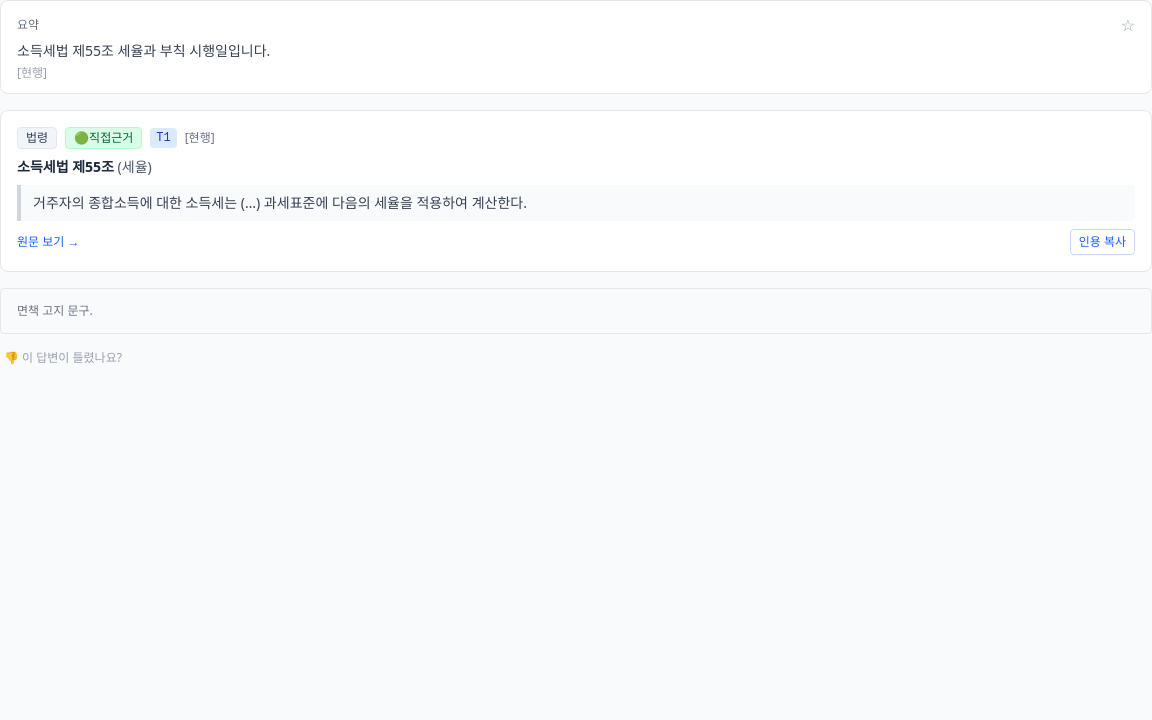
Test: AnswerCard — 조용한 틀림 신고 👎 (TAX-030-B, FR-24) › 신고 제출 시 /api/feedback에 질문·사유·sourceTypes를 전송하고 완료 메시지를 표시한다
Click the button with test id "feedback-open-btn" at (63, 358), box [4,350,122,366]
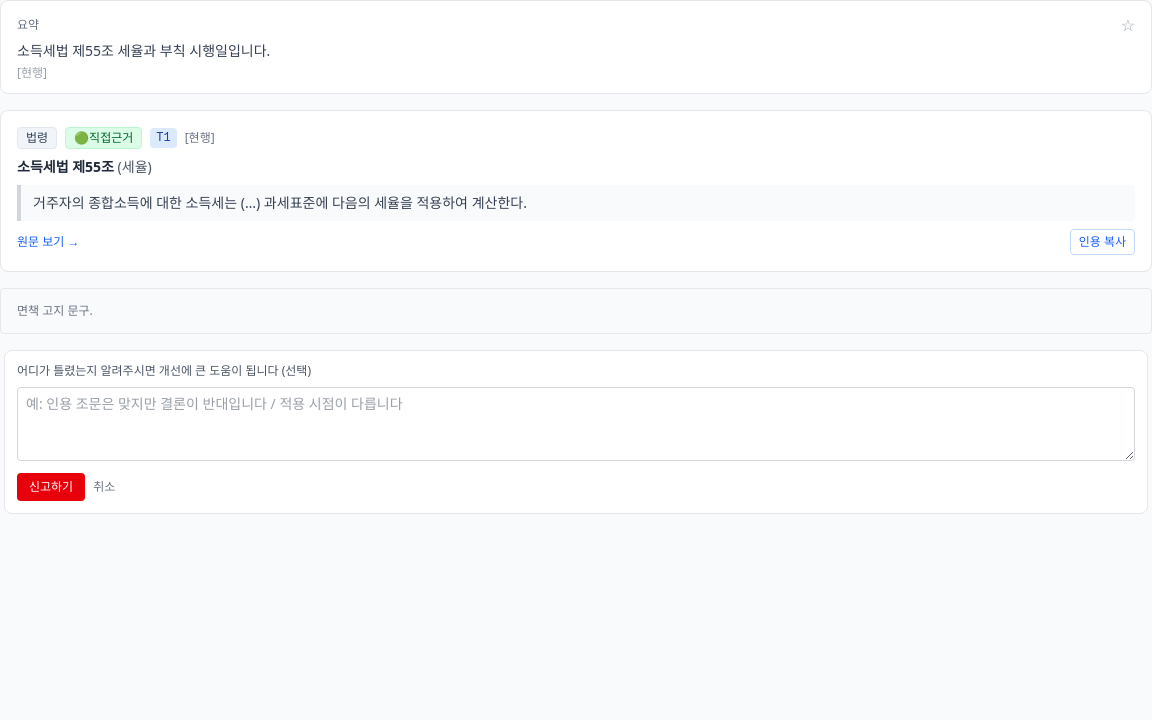
Type "결론이 반대입니다" into the text box with test id "feedback-reason-input" at (576, 424), box [17,386,1135,460]
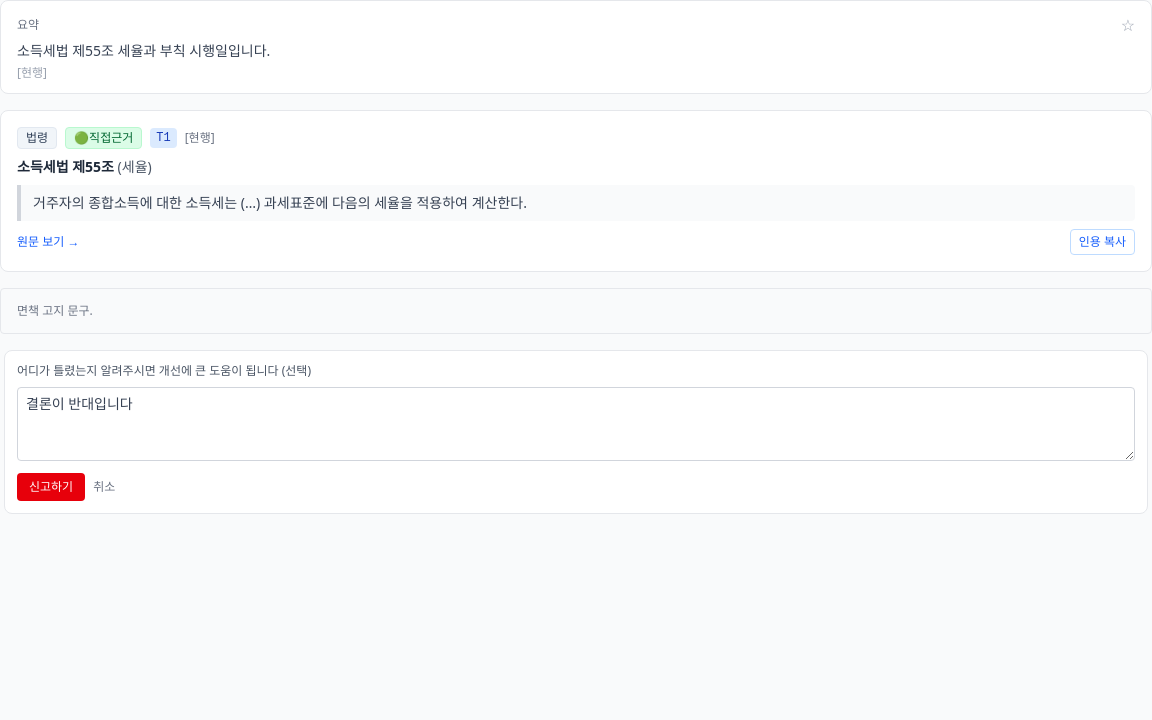
Click the button with test id "feedback-submit-btn" at (51, 486), box [17,472,85,500]
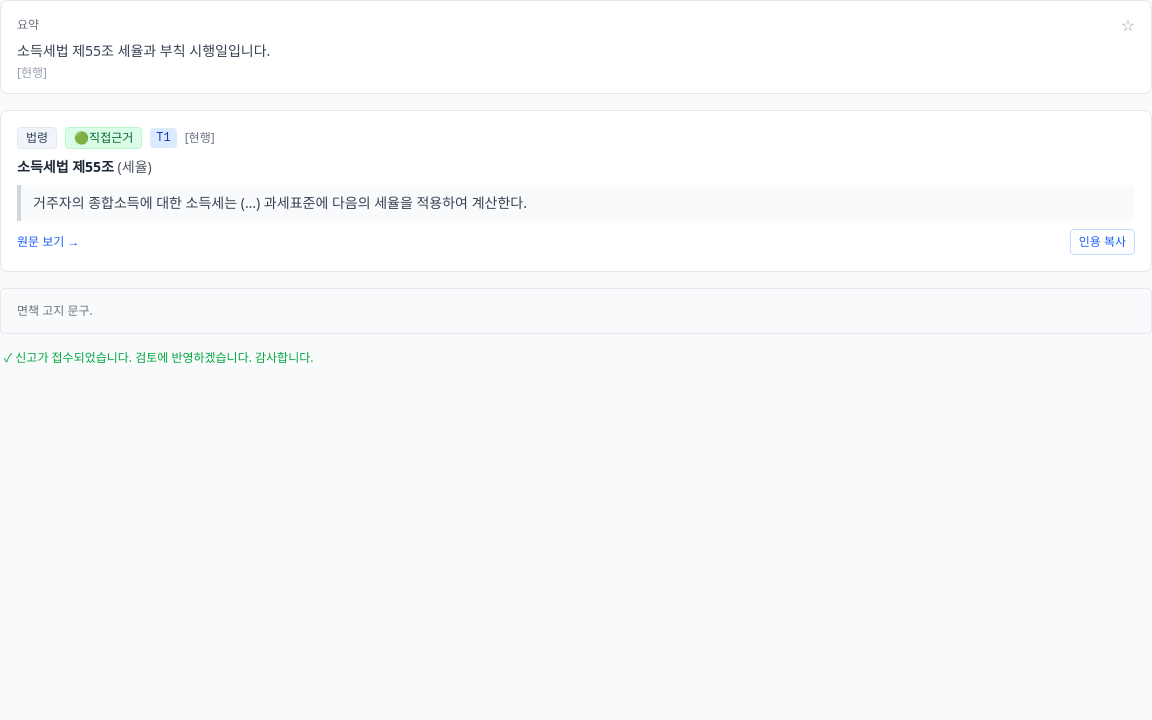
Check: the text "✓ 신고가 접수되었습니다. 검토에 반영하겠습니다. 감사합니다." is shown, box [4,348,314,366]
